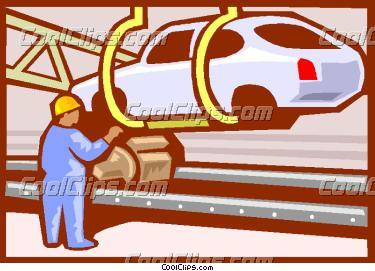car: (69, 10, 365, 125)
person: (35, 92, 121, 252)
